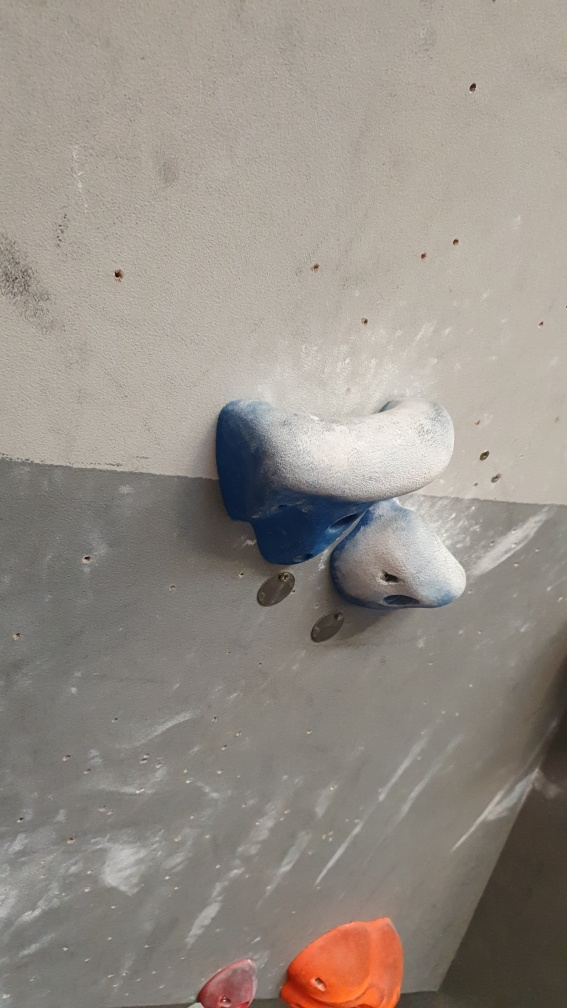Hand Start: (306, 606, 348, 649), (255, 569, 296, 612)
Jug: (214, 387, 461, 574), (328, 491, 468, 623)
